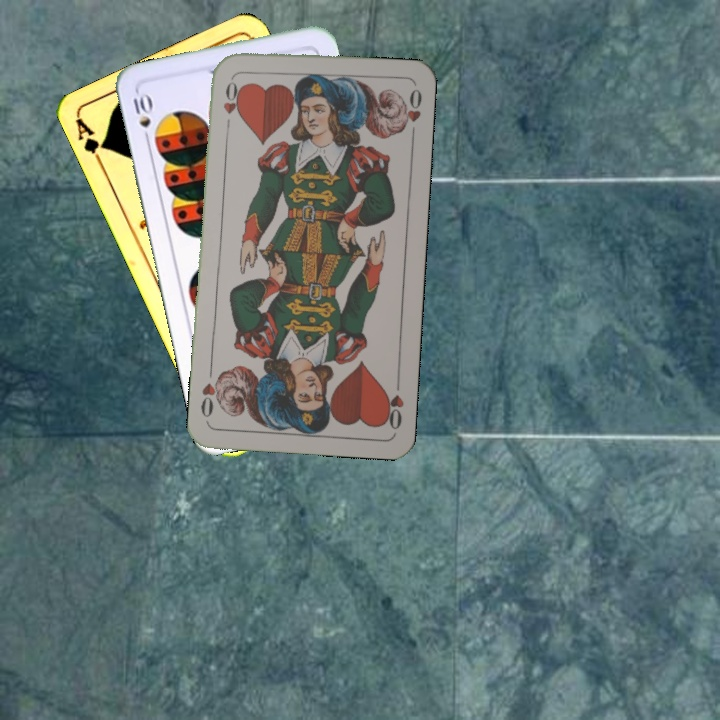GA: (72, 115, 110, 171)
HO: (380, 374, 407, 432), (219, 74, 241, 133)
S10: (129, 88, 154, 147)
